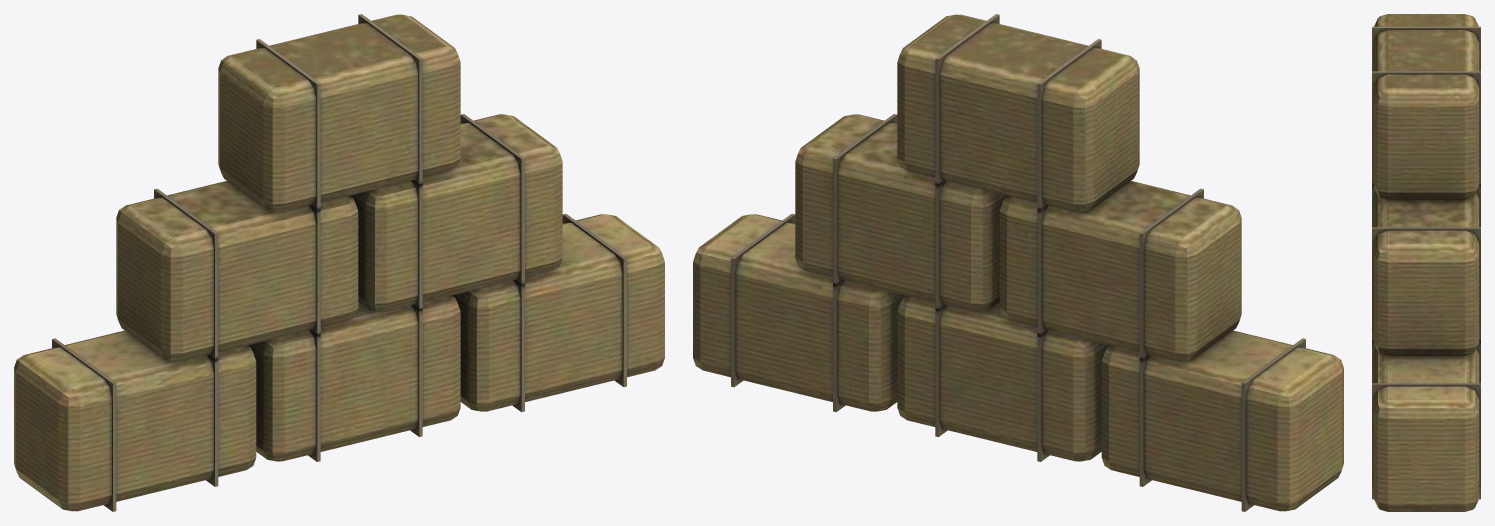
File: haybales.glb
The picture shows the model from 3 angles, left to right: view 1: azimuth 30°, elevation 25°; view 2: azimuth 150°, elevation 25°; view 3: azimuth 270°, elevation 25°; orthographic projection. The views are drawn at different scales.
Visible parts, largest first — view 1: haybales; view 2: haybales; view 3: haybales.
Boxes of the visible parts, bbox=[...] form: haybales: bbox=[14, 14, 664, 511]; haybales: bbox=[693, 14, 1343, 511]; haybales: bbox=[1372, 14, 1480, 511].
Bounding box in the file's own units: 3.55 × 2.12 × 0.62.
1 material, 1 textured.
